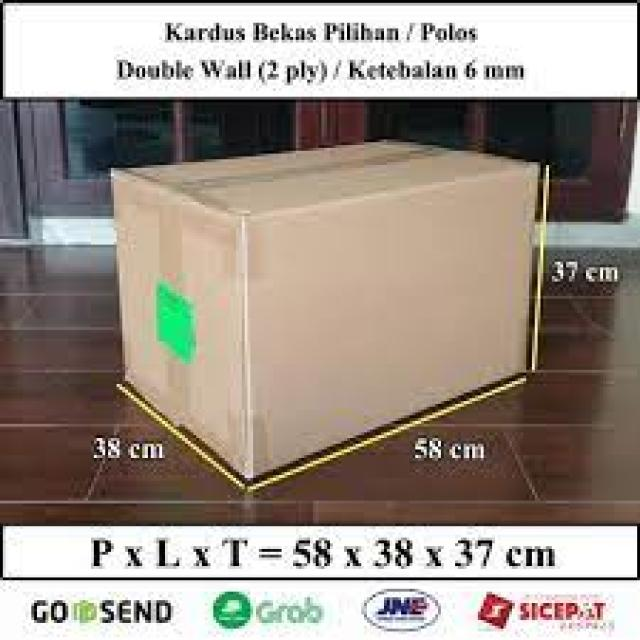Kardus kondisi bagus: (113, 141, 539, 481)
